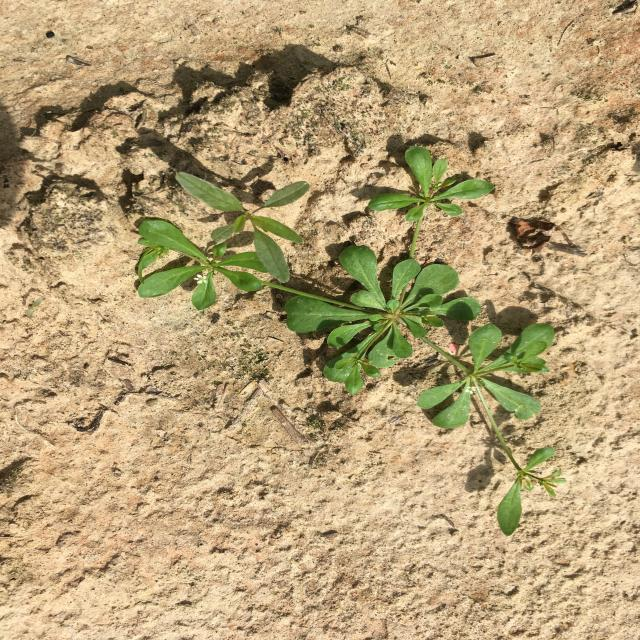Carpetweed: (138, 146, 568, 537)
Waterhemp: (174, 172, 310, 284)
